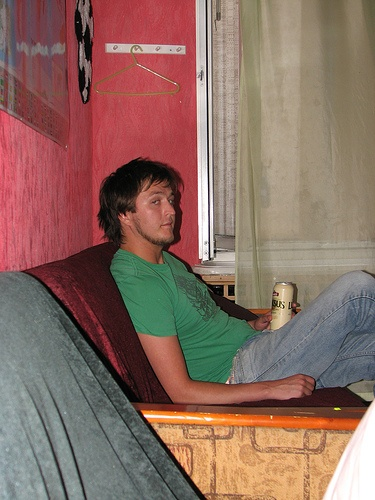head: (98, 159, 183, 244)
person: (101, 129, 375, 434)
